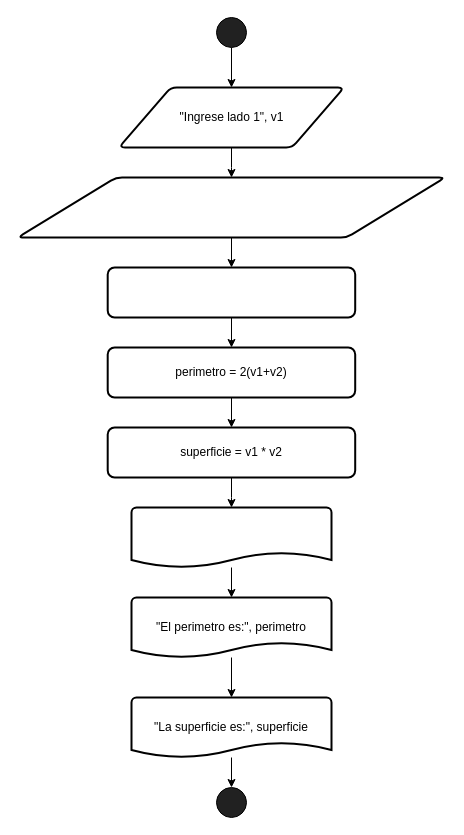
Image size: 464x835. Some labels were removed from this diagram. The shapes that lost their labels are listed below. From the top down, each one's centre as x and y in pixels, then its label:
the point at 231,207: "Ingrese lado 2", v2
the point at 231,292: diagonal = sqrt((v1)^2 + (v2)^2)
the point at 231,537: "La diagonal es:", diagonal
